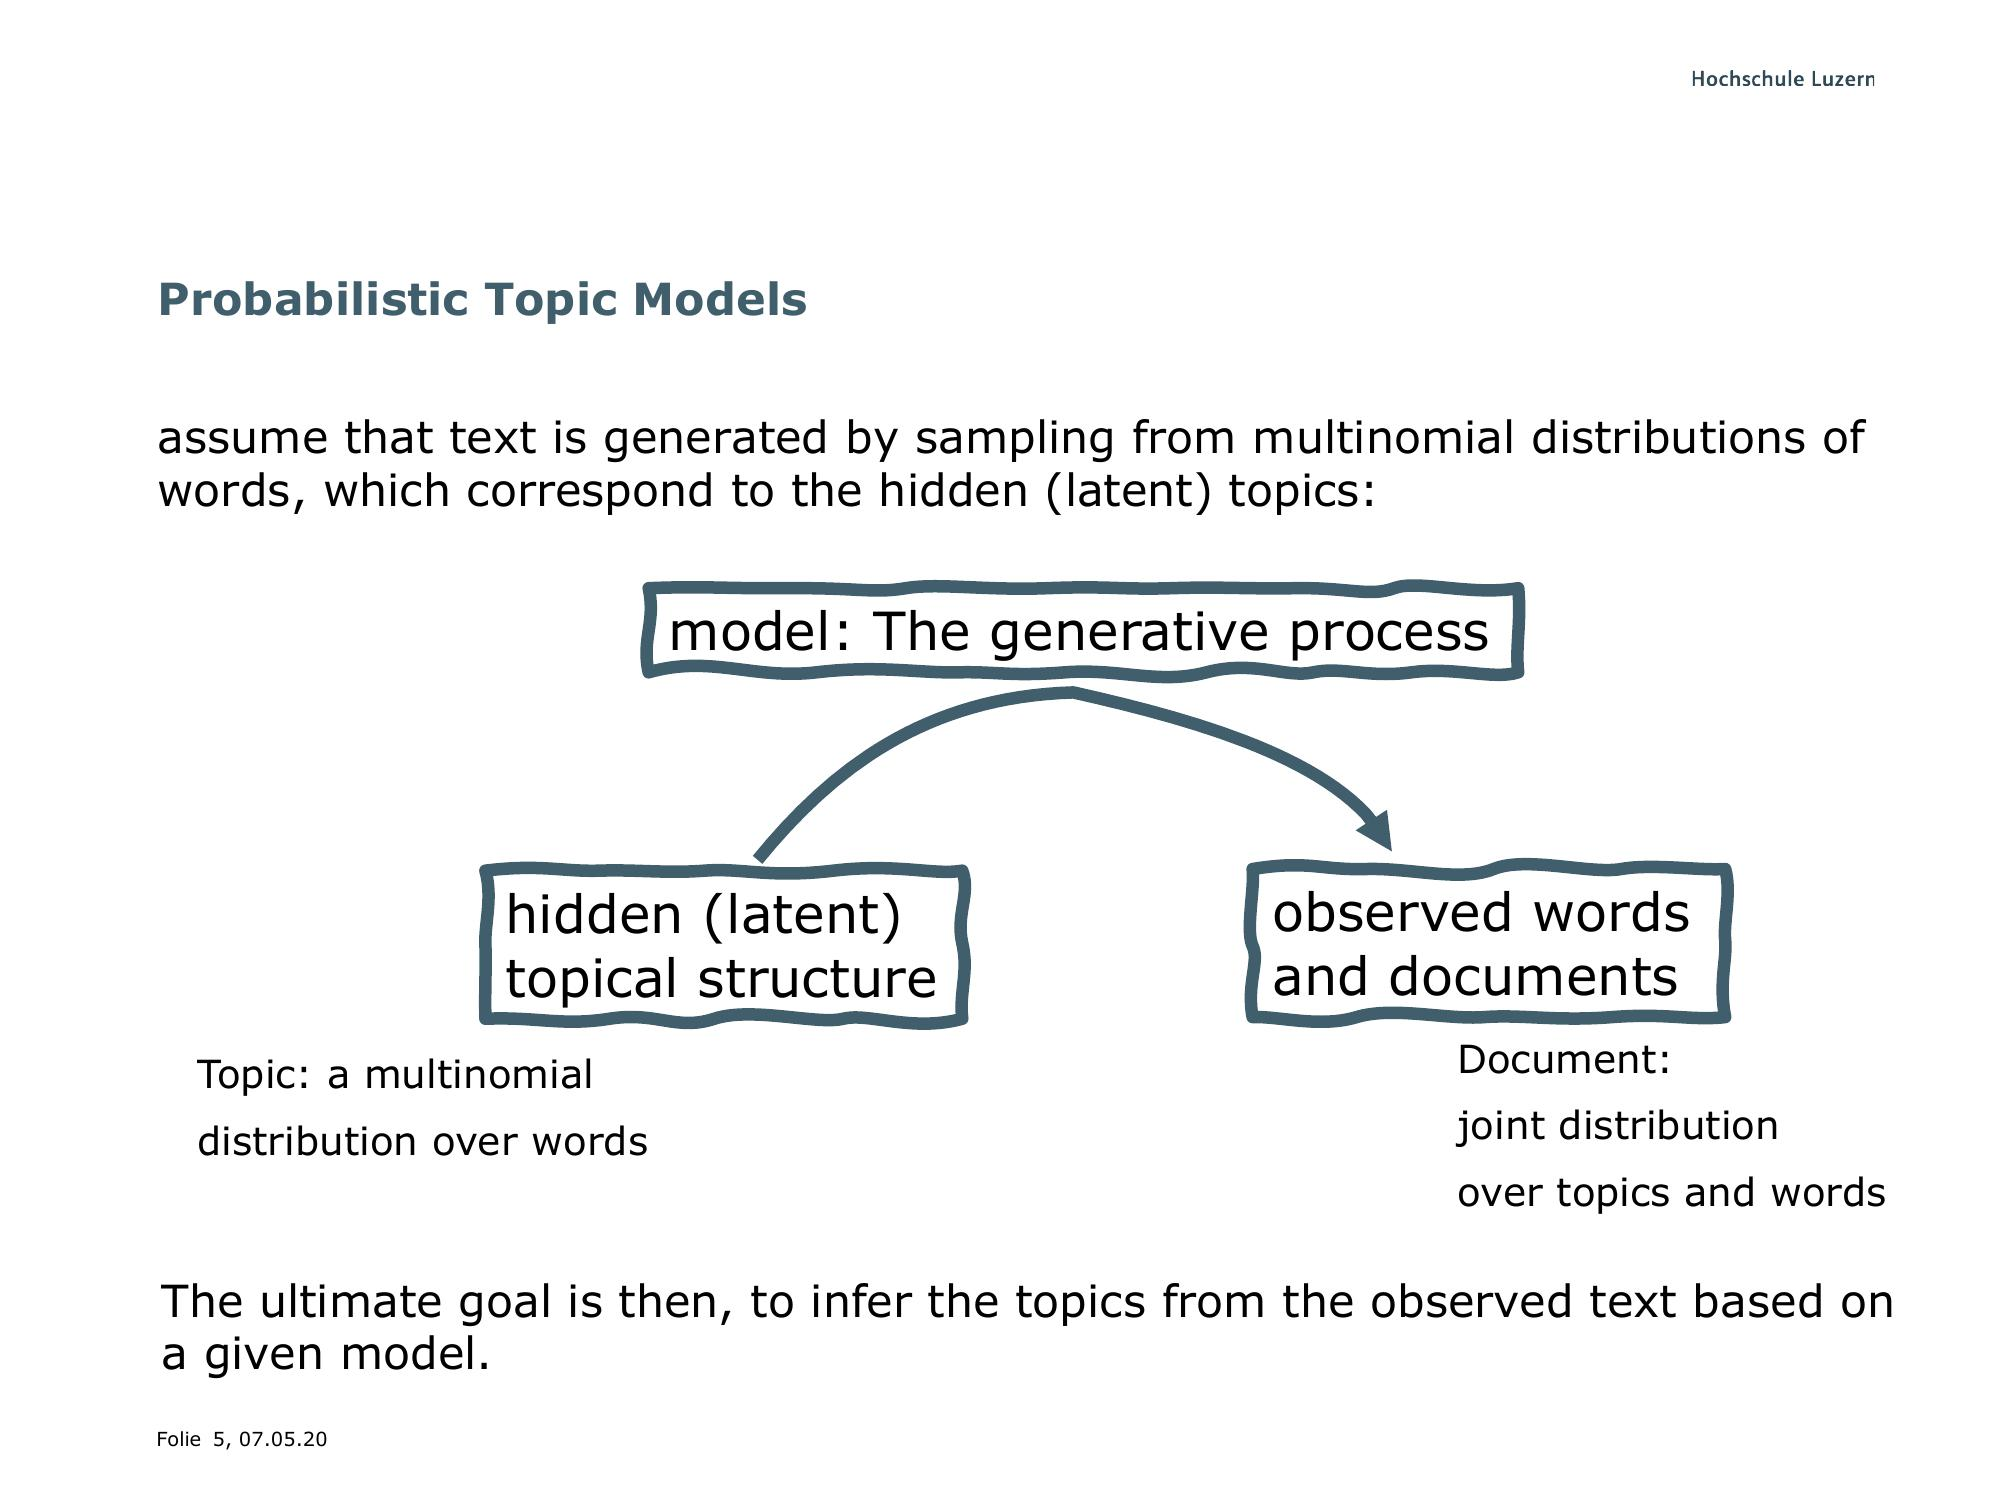Title: (157, 277, 819, 328)
